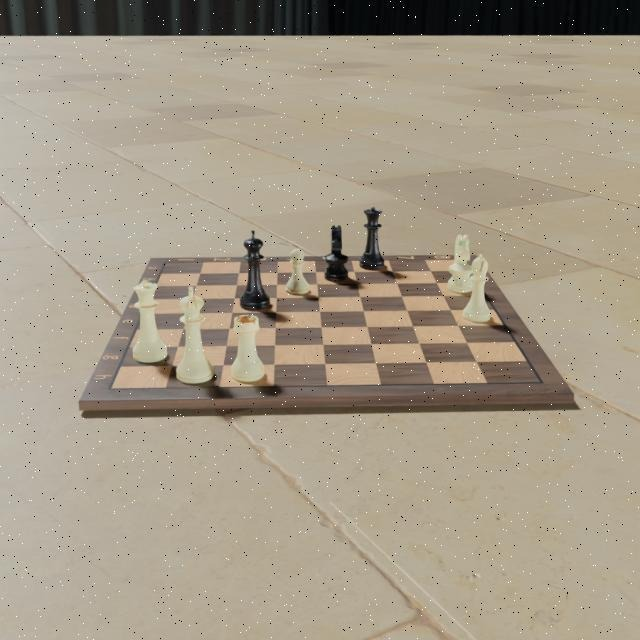black-king: (237, 228, 270, 311)
black-knight: (322, 224, 350, 283)
black-queen: (358, 206, 386, 271)
white-bishop: (461, 252, 491, 324)
white-king: (172, 285, 215, 386)
white-knight: (446, 228, 476, 296)
white-pawn: (283, 247, 312, 297)
white-queen: (129, 279, 169, 365)
white-rook: (229, 313, 266, 385)
